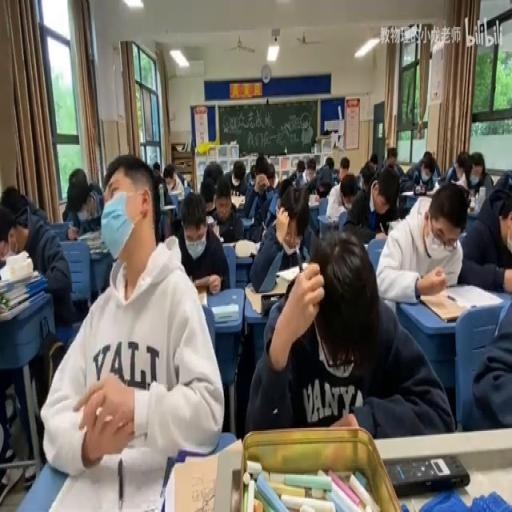calculator: (45, 450, 166, 509), (166, 453, 223, 512), (444, 283, 502, 309), (210, 300, 238, 322), (234, 238, 258, 258), (275, 263, 300, 280), (191, 274, 213, 292), (76, 230, 102, 244), (170, 194, 183, 218), (401, 189, 432, 199), (466, 202, 482, 219), (90, 246, 108, 257), (386, 219, 400, 233), (240, 214, 254, 228), (196, 288, 206, 306), (302, 243, 310, 262), (308, 194, 318, 208), (222, 240, 236, 249), (433, 176, 442, 190), (183, 182, 192, 195), (206, 215, 216, 226), (374, 230, 386, 238), (162, 204, 175, 210)
paper: (248, 229, 451, 439), (0, 188, 72, 490), (250, 180, 314, 288), (458, 170, 512, 292), (174, 188, 228, 292), (355, 165, 400, 237), (62, 166, 104, 235), (442, 148, 490, 196), (402, 148, 440, 192), (224, 160, 249, 204), (1, 183, 29, 219), (150, 175, 164, 243), (314, 156, 336, 195), (378, 147, 404, 179), (162, 164, 184, 199), (243, 174, 261, 214), (204, 162, 224, 188), (290, 158, 306, 188), (277, 176, 293, 200), (266, 189, 278, 219), (266, 161, 276, 189), (152, 159, 162, 178), (339, 160, 350, 176), (368, 152, 378, 168), (306, 176, 316, 190), (306, 161, 315, 175), (421, 154, 430, 168), (250, 162, 256, 179), (332, 169, 338, 182)
person: (384, 452, 470, 495), (261, 292, 283, 316), (230, 468, 242, 510), (282, 278, 294, 302)
